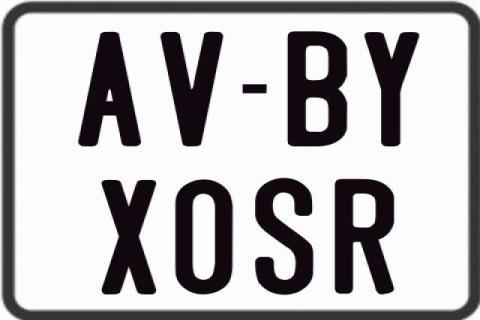0: (172, 178, 231, 296)
A: (75, 30, 143, 150)
B: (285, 30, 346, 148)
R: (333, 179, 395, 295)
S: (253, 176, 317, 293)
V: (159, 31, 226, 147)
X: (99, 178, 155, 296)
Y: (364, 32, 421, 151)
